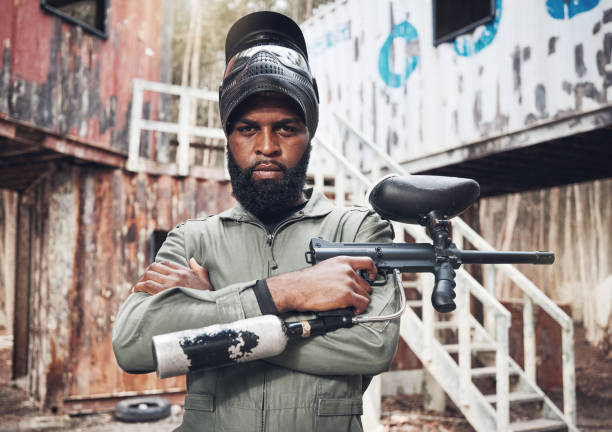gun: (305, 235, 558, 317)
